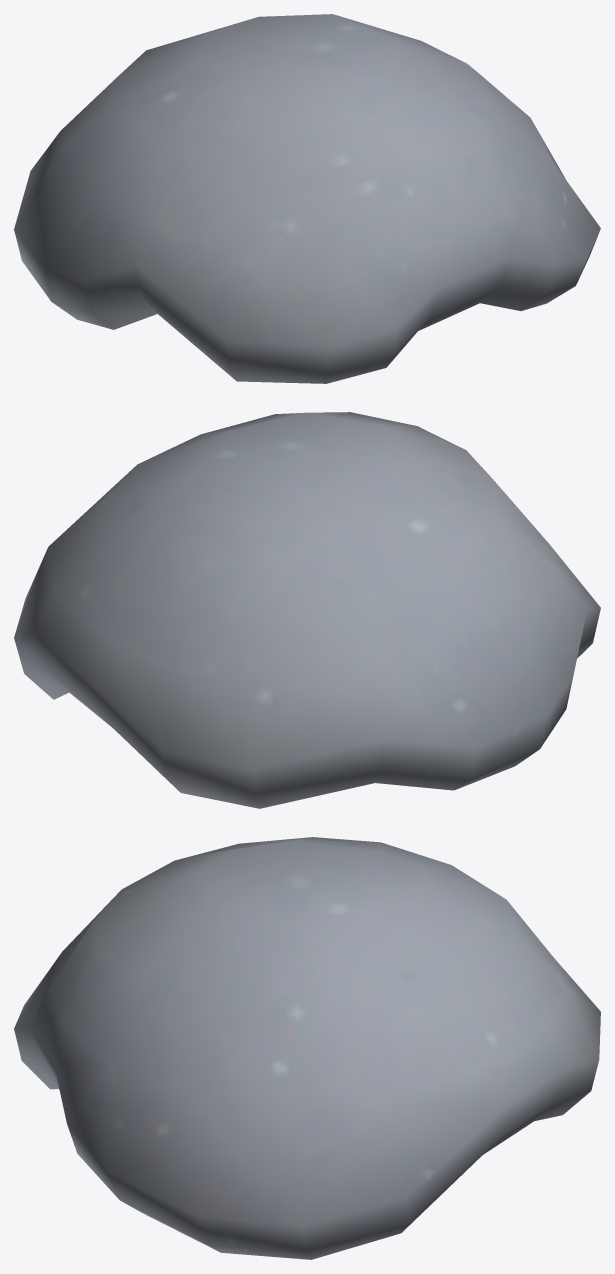
The model's file is pref_sm_beach_treesnow02_lv3.fbx.
The picture shows the model from 3 angles, top to bottom: view 1: azimuth 30°, elevation 25°; view 2: azimuth 150°, elevation 25°; view 3: azimuth 270°, elevation 25°; orthographic projection. The views are drawn at different scales.
Parts seen in each view (by area): view 1: pref_sm_beach_treesnow02_lv3; view 2: pref_sm_beach_treesnow02_lv3; view 3: pref_sm_beach_treesnow02_lv3.
Boxes of the visible parts, x1,y1,x2,y2 form: pref_sm_beach_treesnow02_lv3: [14, 14, 600, 383]; pref_sm_beach_treesnow02_lv3: [14, 412, 600, 808]; pref_sm_beach_treesnow02_lv3: [14, 837, 600, 1259].
Bounding box in the file's own units: 2.96 × 1.42 × 2.79.
